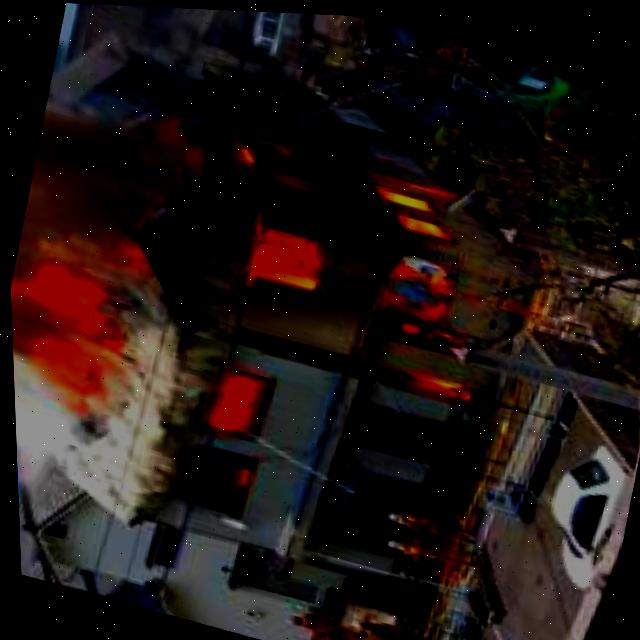Fire: (194, 98, 526, 401), (195, 358, 275, 445)
Smoke: (3, 100, 238, 537)
